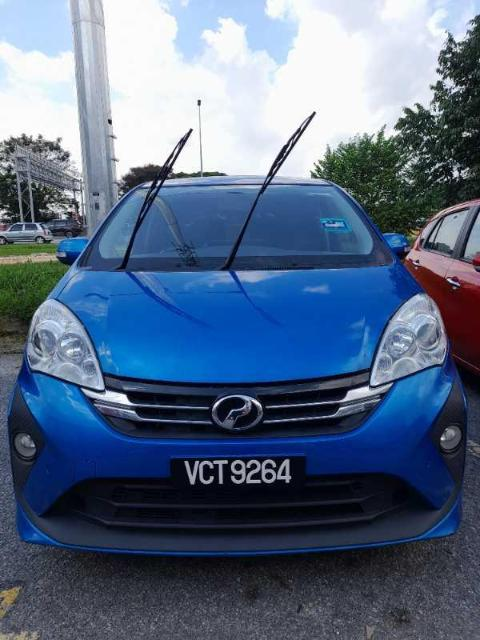License_Plate: (171, 454, 308, 493)
car: (4, 167, 475, 567)
